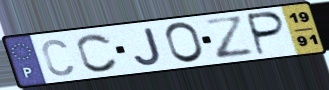C: (75, 32, 121, 74), (40, 38, 76, 78)
J: (131, 26, 164, 67)
O: (163, 20, 207, 65)
P: (246, 10, 289, 57)
Z: (201, 14, 258, 61)
